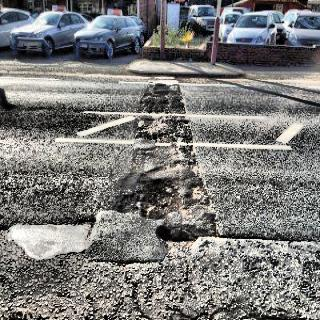pothole: (124, 164, 184, 220), (156, 226, 197, 246), (151, 79, 171, 96)
